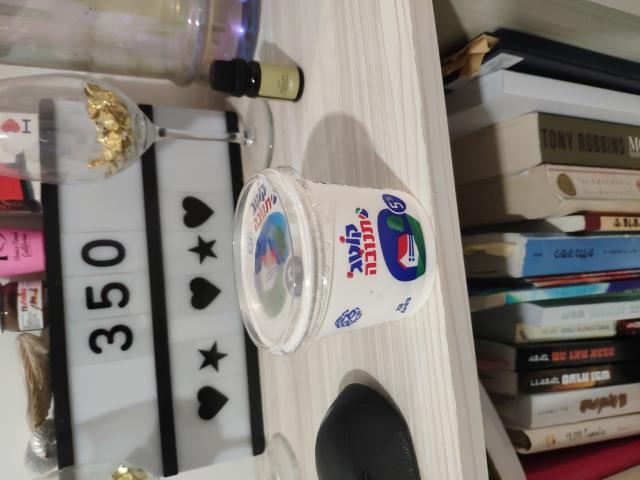cotage: (226, 181, 438, 337)
